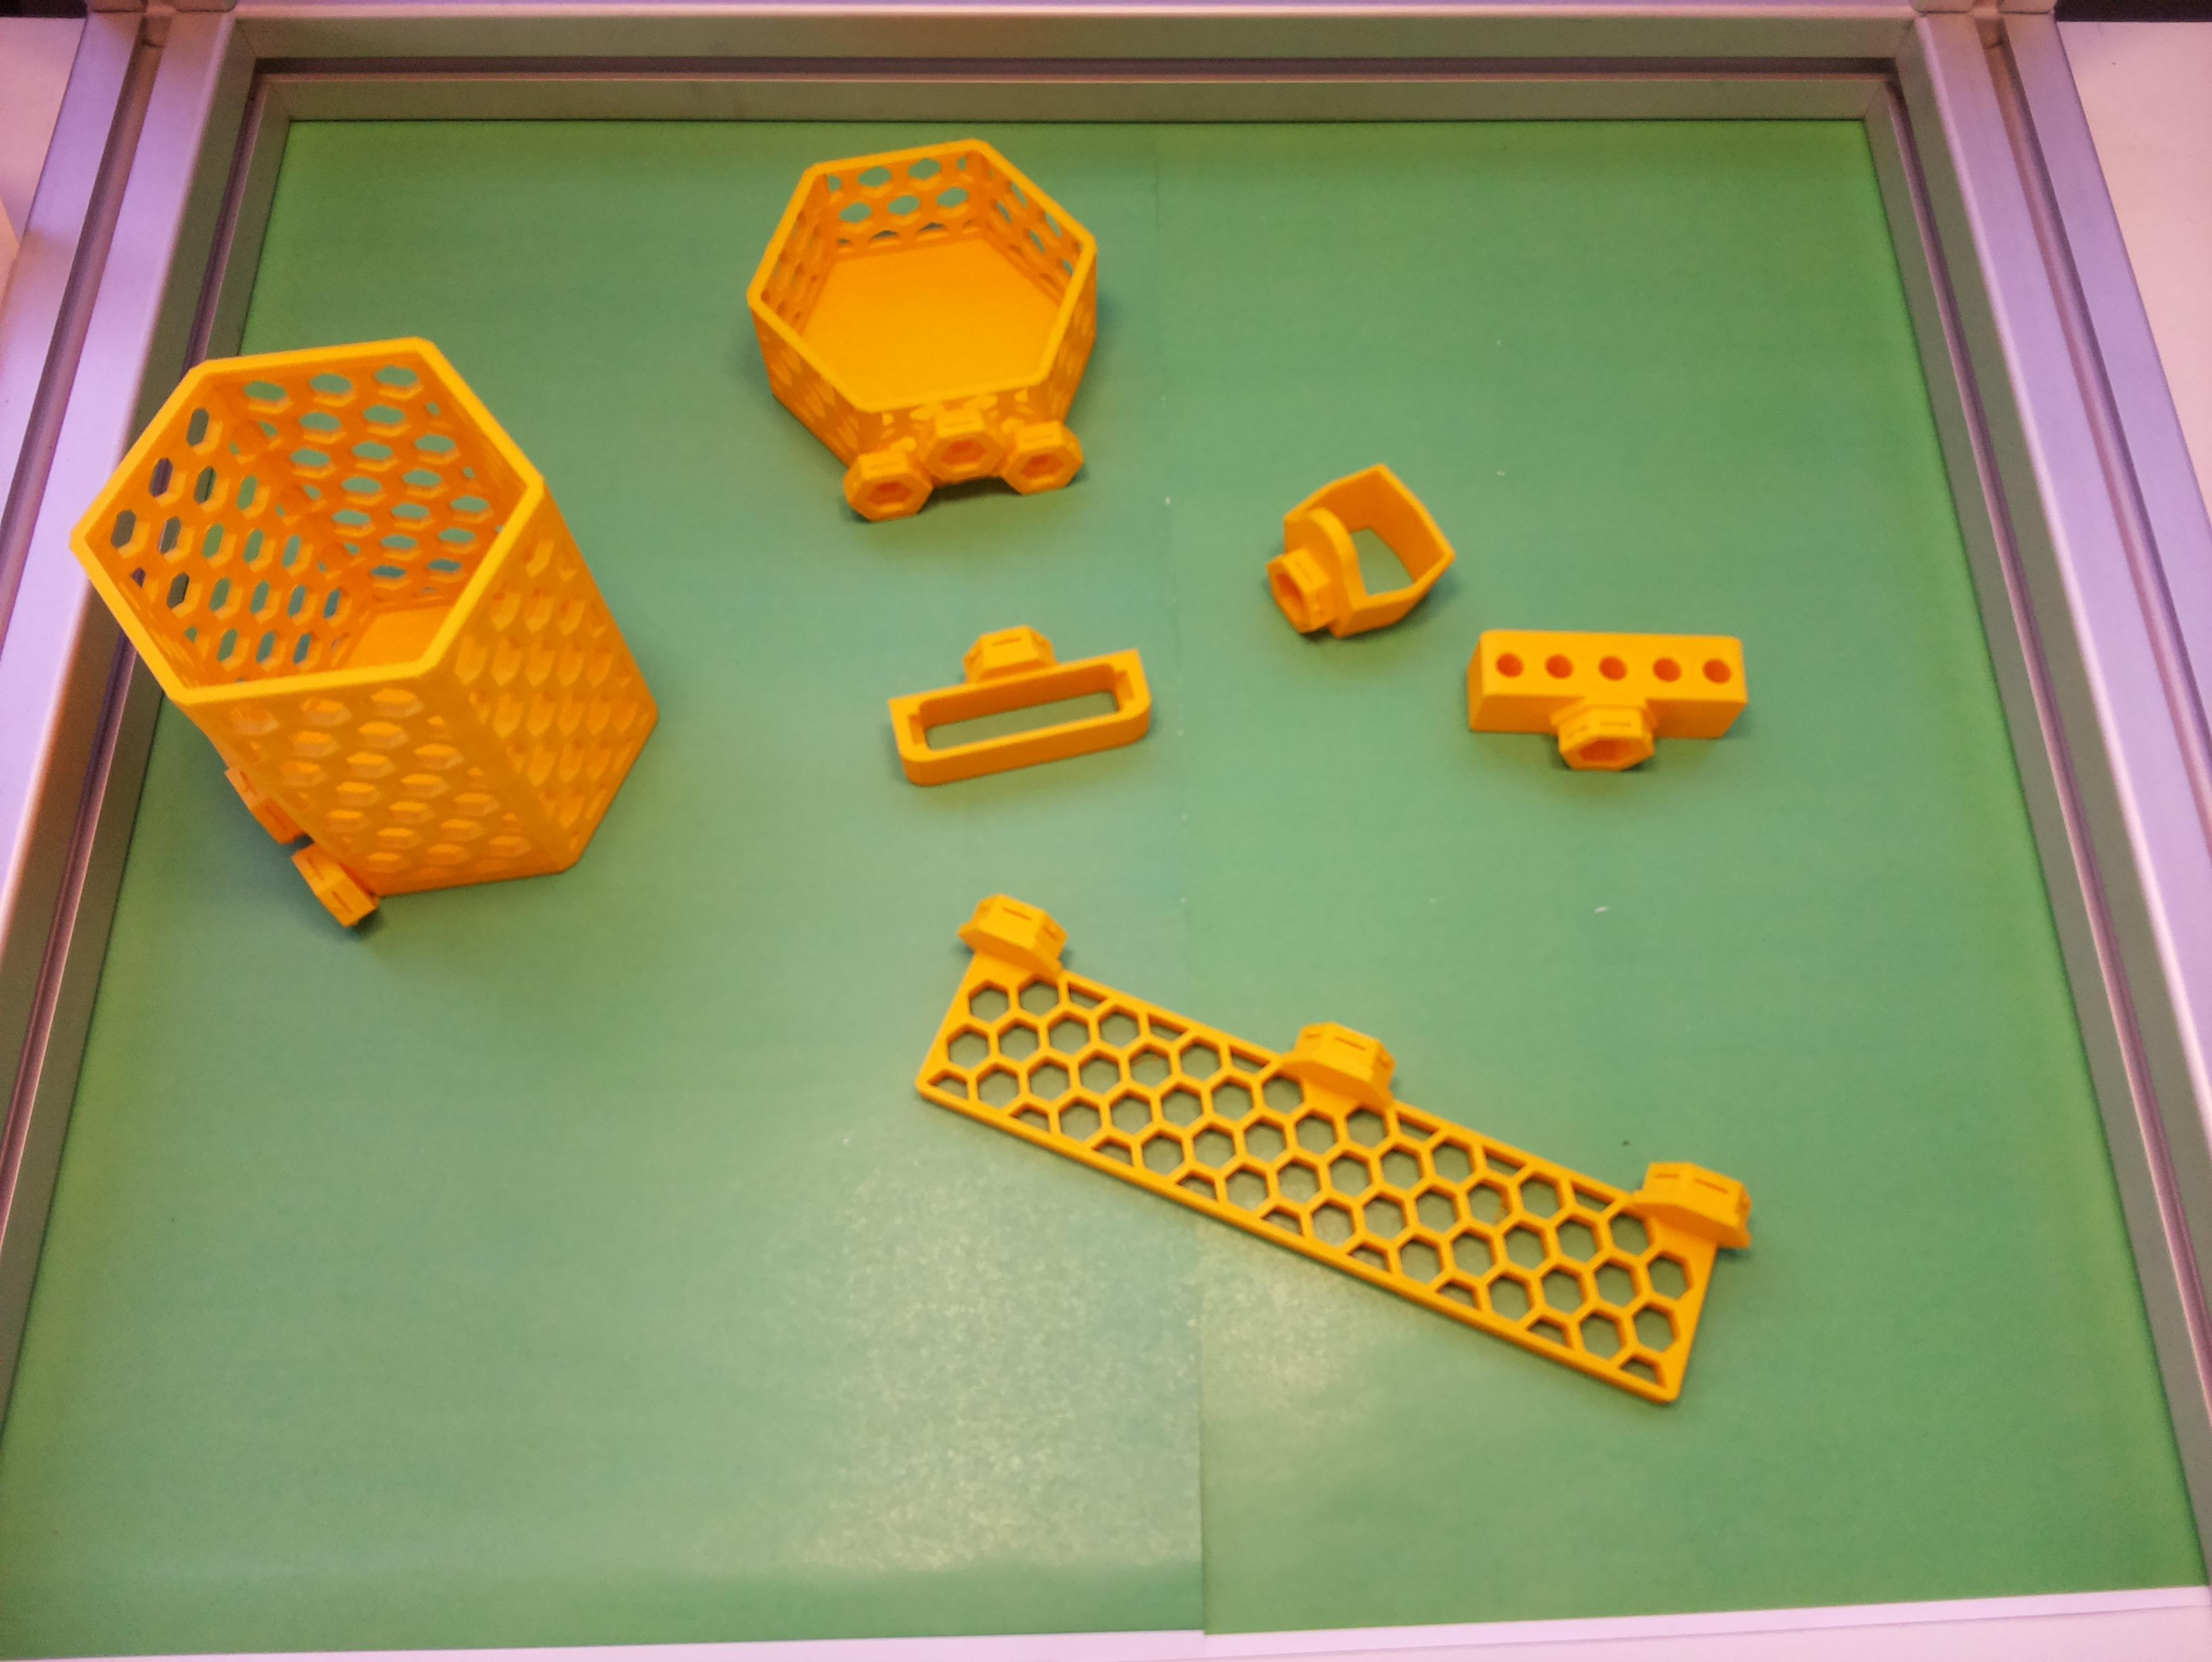bit_holder: (1465, 628, 1749, 775)
bottle_holder: (726, 117, 1137, 538)
cup_holder: (23, 241, 733, 999)
cutter_holder: (878, 604, 1159, 793)
scissor_holder: (1240, 447, 1468, 670)
tool_holder: (896, 869, 1769, 1412)
